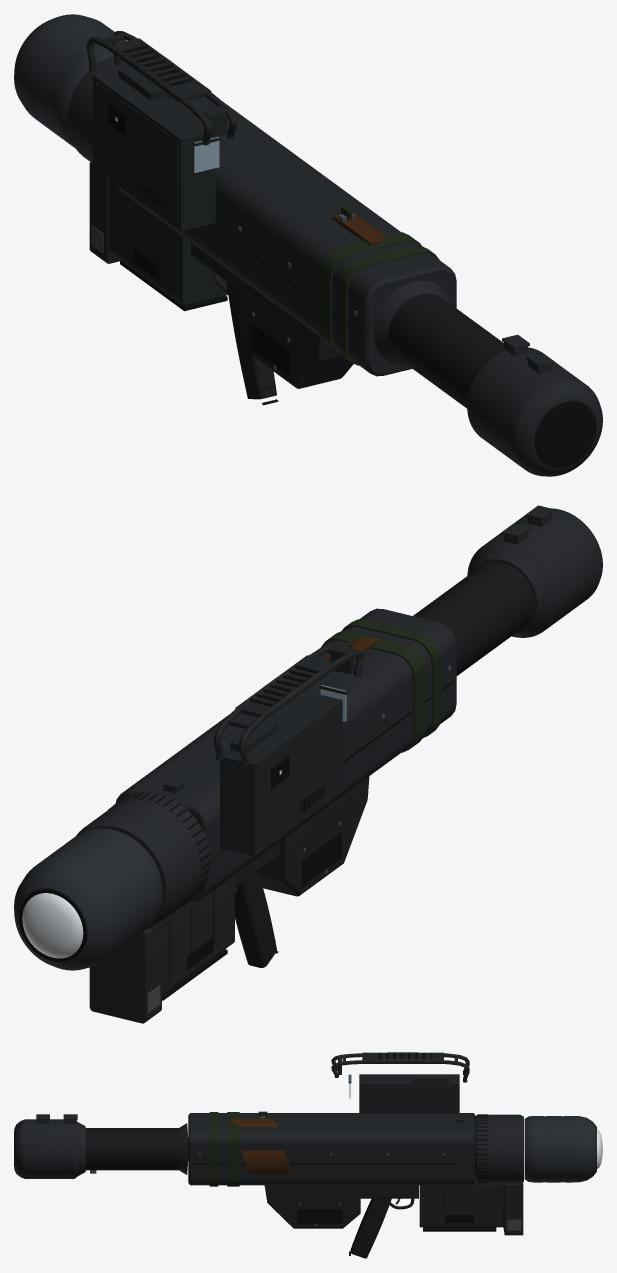
The model's file is fhj18.glb.
The picture shows the model from 3 angles, top to bottom: view 1: azimuth 30°, elevation 25°; view 2: azimuth 150°, elevation 25°; view 3: azimuth 270°, elevation 25°; orthographic projection. The views are drawn at different scales.
Parts seen in each view (by area): view 1: FJ_Body, FJ_Mag; view 2: FJ_Body, FJ_Mag; view 3: FJ_Body, FJ_Mag.
Boxes of the visible parts, bbox=[...] form: FJ_Body: bbox=[14, 14, 602, 476]; FJ_Mag: bbox=[89, 162, 228, 311]; FJ_Body: bbox=[14, 505, 602, 970]; FJ_Mag: bbox=[89, 875, 234, 1023]; FJ_Body: bbox=[14, 1052, 602, 1258]; FJ_Mag: bbox=[419, 1182, 523, 1235].
Bounding box in the file's own units: 0.2175 × 0.4952 × 1.44.
